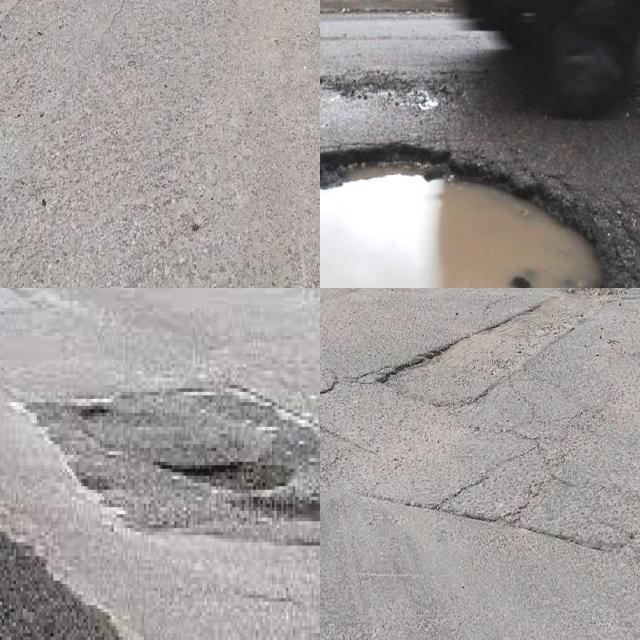Pothole: (320, 143, 610, 288), (372, 321, 522, 413), (156, 462, 320, 525), (63, 395, 114, 416)
